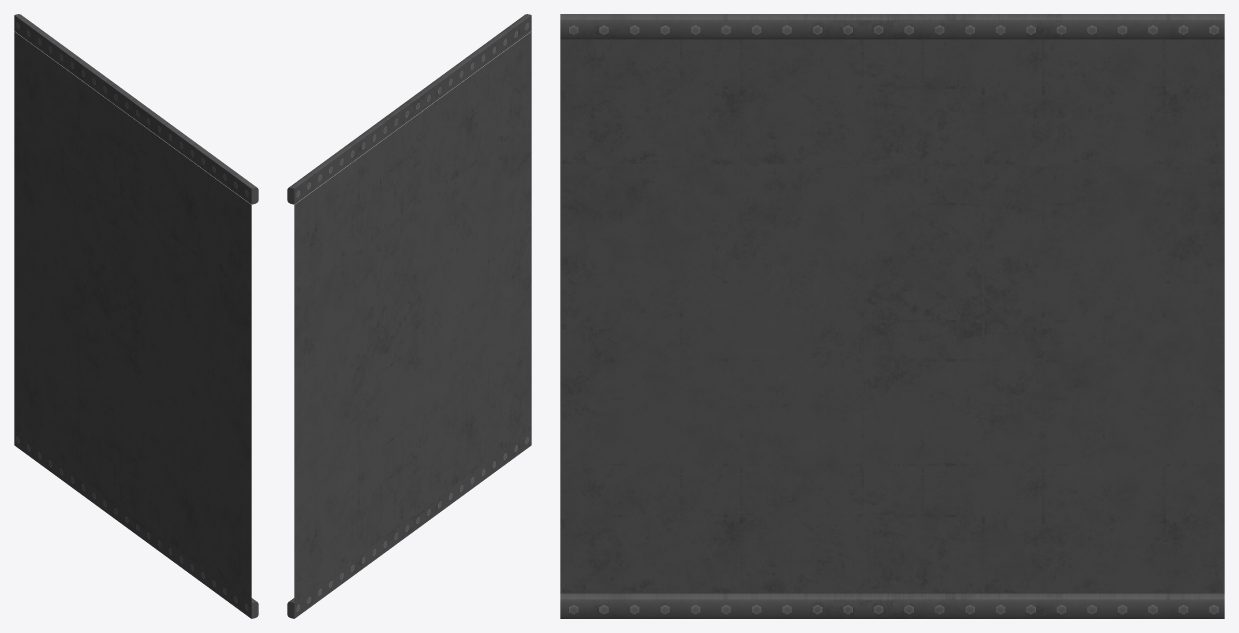
File: IndustrialWall.fbx
3 views of the same model, side by side, from view 1: azimuth 30°, elevation 25°; view 2: azimuth 150°, elevation 25°; view 3: azimuth 270°, elevation 25° (orthographic). The views are drawn at different scales.
Visible parts, largest first — view 1: Engine_low.008; view 2: Engine_low.008; view 3: Engine_low.008.
Part boxes in pixels (x1,y1,x2,y2): Engine_low.008: [14, 14, 258, 618]; Engine_low.008: [287, 14, 531, 618]; Engine_low.008: [560, 14, 1224, 618].
Bounding box in the file's own units: 8.85 × 500 × 500.
